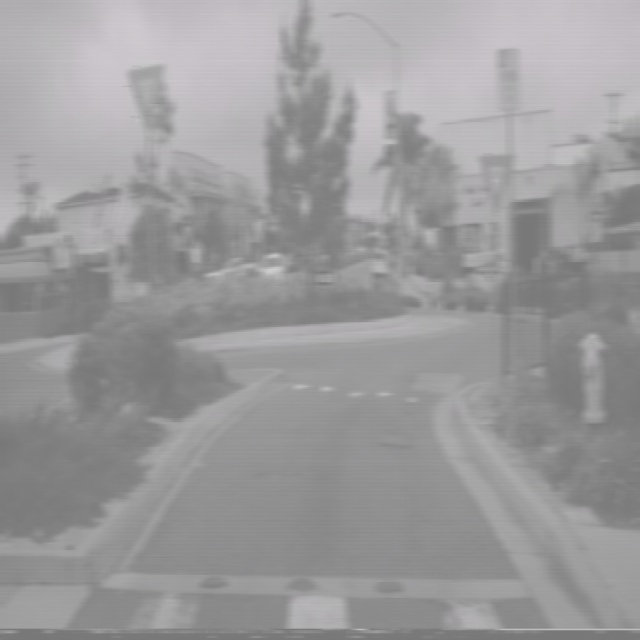yield: (126, 58, 165, 134), (477, 151, 516, 215)
